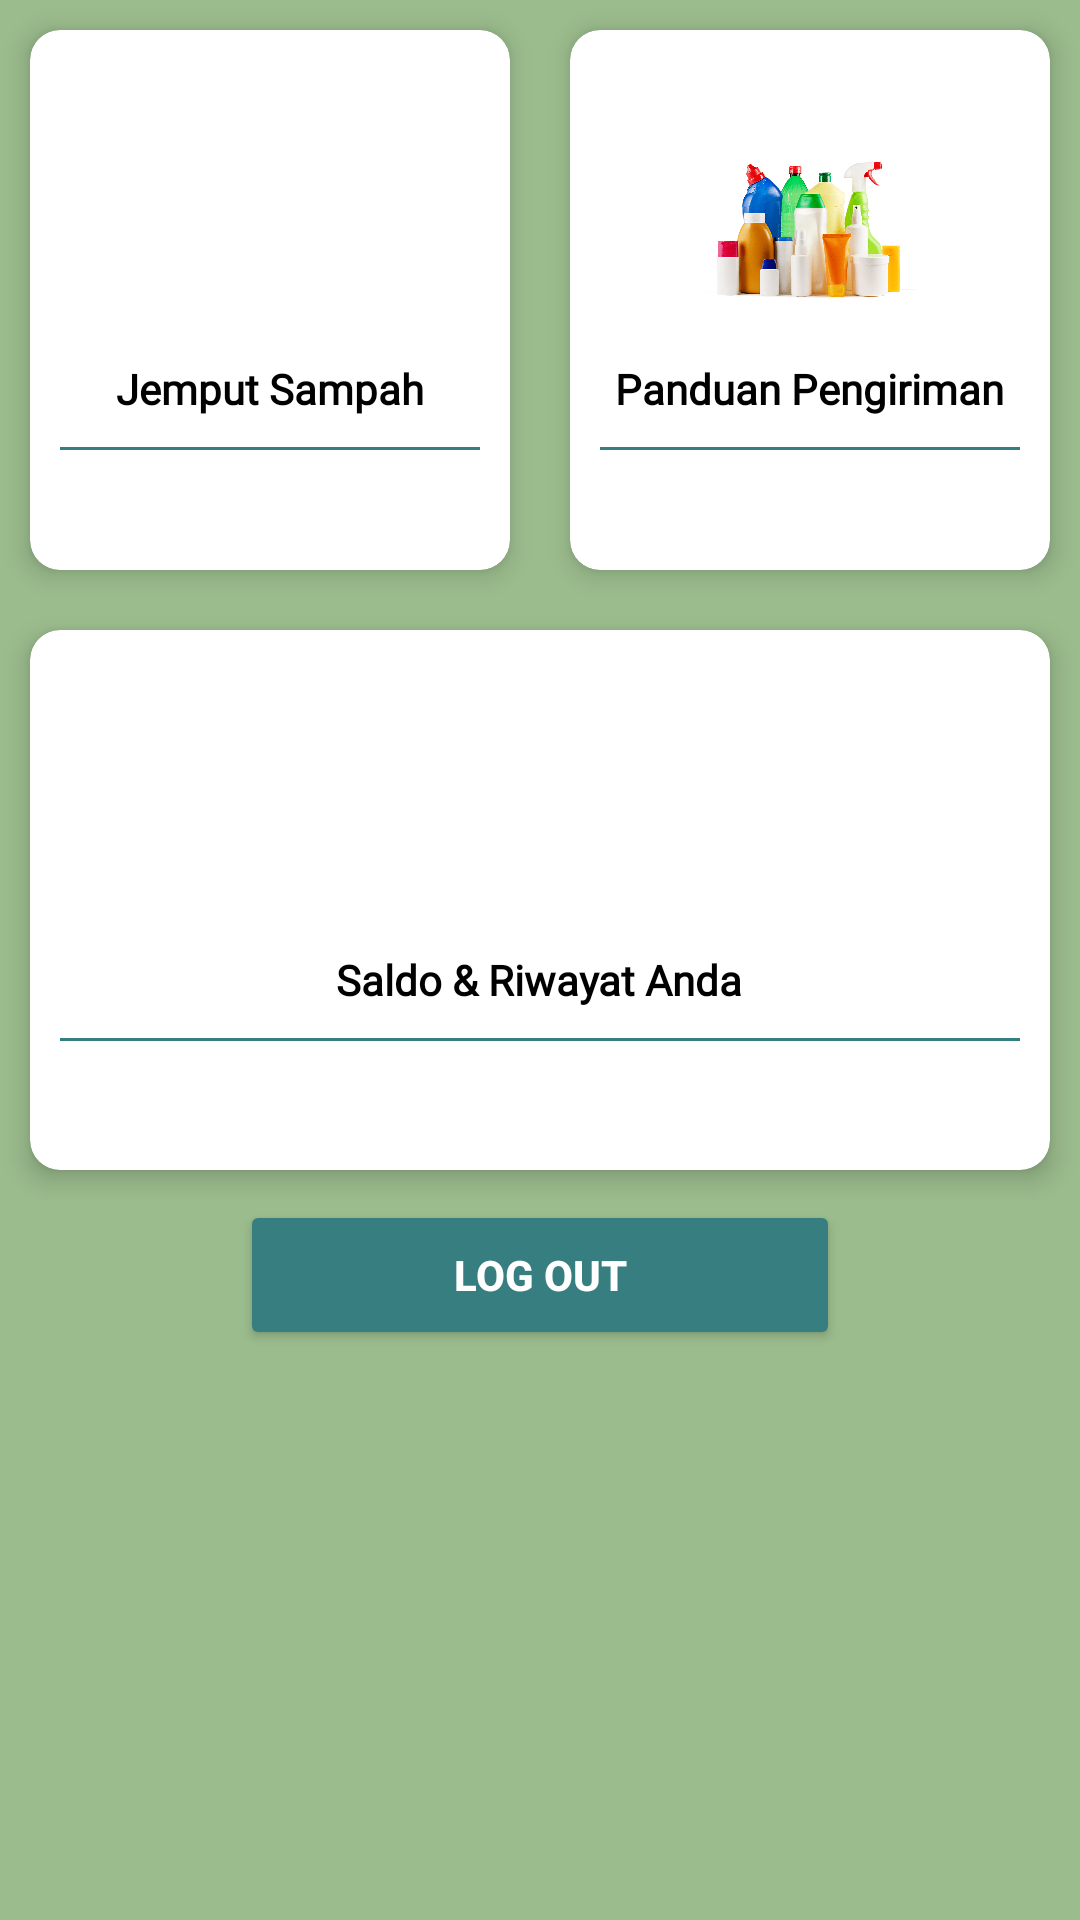

Locate icon controls on the screen. Image size 1080 x 1920, boxes as [x1=x1, y1=y1, x2=x2, y2=y2].
botol: [x1=718, y1=162, x2=900, y2=299]
